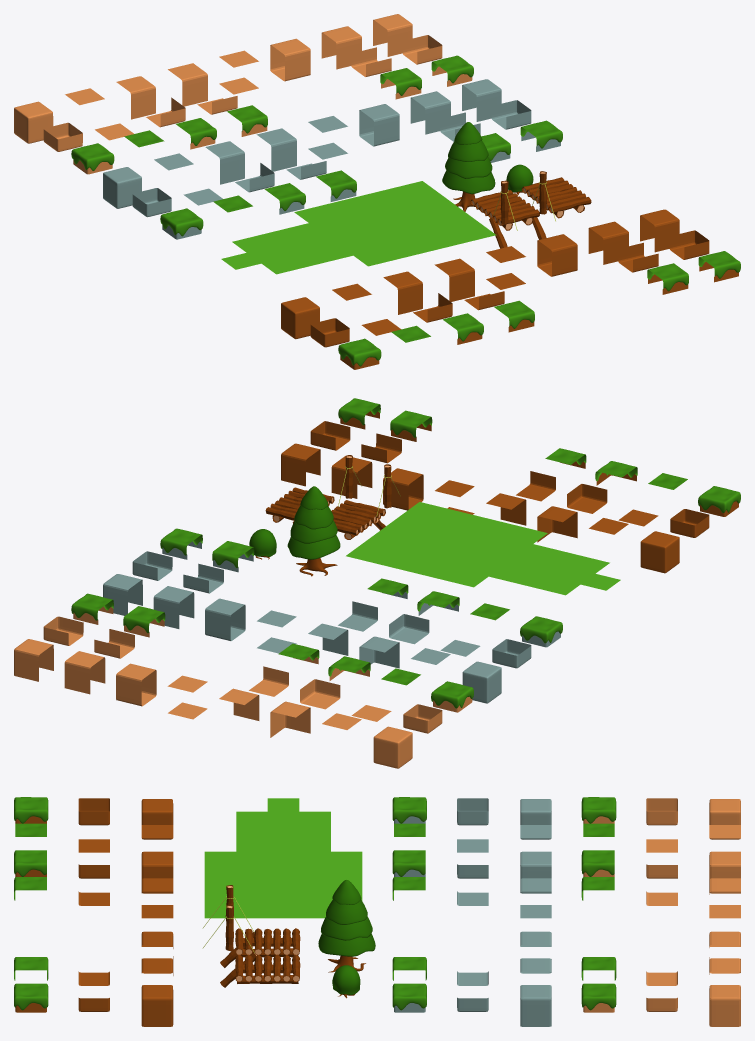
The model's file is forrest_tiles.glb.
3 views of the same model, one above another, from view 1: azimuth 30°, elevation 25°; view 2: azimuth 150°, elevation 25°; view 3: azimuth 270°, elevation 25° (orthographic). The views are drawn at different scales.
Parts seen in each view (by area): view 1: grass-large-col, grass-medium-col, Pinetree, logbridge-end, soilblock-tube, stoneblock-tube, dirtblock-tube, logbridge-segment, dirtblock-full, stoneblock-full, soilblock-full, stoneblock-ridge (+41 smaller); view 2: grass-large-col, grass-medium-col, Pinetree, logbridge-end, dirtblock-tube, stoneblock-tube, dirtblock-full, soilblock-full, dirtblock-ridge, soilblock-ridgecap, dirtblock-ridgecap, stoneblock-full (+41 smaller); view 3: grass-large-col, grass-medium-col, Pinetree, logbridge-end, logbridge-segment, soilblock-ridgecap, stoneblock-ridgecap, dirtblock-ridgecap, dirtcap-ridgecap, stonecap-ridgecap, soilcap-ridgecap, soilblock-corner (+55 smaller).
Boxes of the visible parts, box(x1,y1,x2,y2) form: grass-large-col: box(294, 181, 496, 266); grass-medium-col: box(232, 223, 352, 274); Pinetree: box(442, 122, 495, 211); logbridge-end: box(470, 171, 555, 248); soilblock-tube: box(537, 234, 577, 276); stoneblock-tube: box(359, 104, 399, 146); dirtblock-tube: box(270, 38, 310, 81); logbridge-segment: box(522, 177, 591, 218); dirtblock-full: box(14, 101, 53, 143); stoneblock-full: box(103, 167, 141, 208); soilblock-full: box(281, 297, 319, 339); stoneblock-ridge: box(410, 91, 450, 134); grass-large-col: box(346, 502, 547, 587); grass-medium-col: box(489, 544, 609, 595); Pinetree: box(287, 486, 340, 576); logbridge-end: box(331, 455, 400, 539); dirtblock-tube: box(116, 663, 156, 706); stoneblock-tube: box(205, 598, 245, 640); dirtblock-full: box(373, 726, 412, 768); soilblock-full: box(640, 531, 679, 573); dirtblock-ridge: box(64, 651, 105, 694); soilblock-ridgecap: box(281, 443, 320, 486); dirtblock-ridgecap: box(14, 639, 53, 681); stoneblock-full: box(462, 661, 501, 703); grass-large-col: box(204, 851, 362, 918); grass-medium-col: box(236, 811, 330, 851); Pinetree: box(318, 880, 375, 972); logbridge-end: box(202, 885, 300, 987); logbridge-segment: box(235, 955, 300, 983); soilblock-ridgecap: box(141, 985, 173, 1026); stoneblock-ridgecap: box(520, 985, 551, 1026); dirtblock-ridgecap: box(709, 985, 740, 1026); dirtcap-ridgecap: box(581, 983, 616, 1012); stonecap-ridgecap: box(392, 983, 426, 1012); soilcap-ridgecap: box(14, 983, 48, 1012); soilblock-corner: box(141, 851, 173, 893).
Size of what is drawn, in the model's own units: 15.09 by 3.42 by 23.05.
